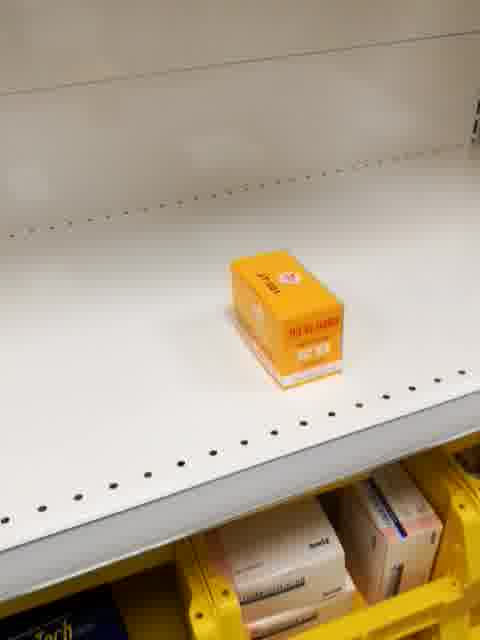jasminetea: (227, 246, 345, 392)
